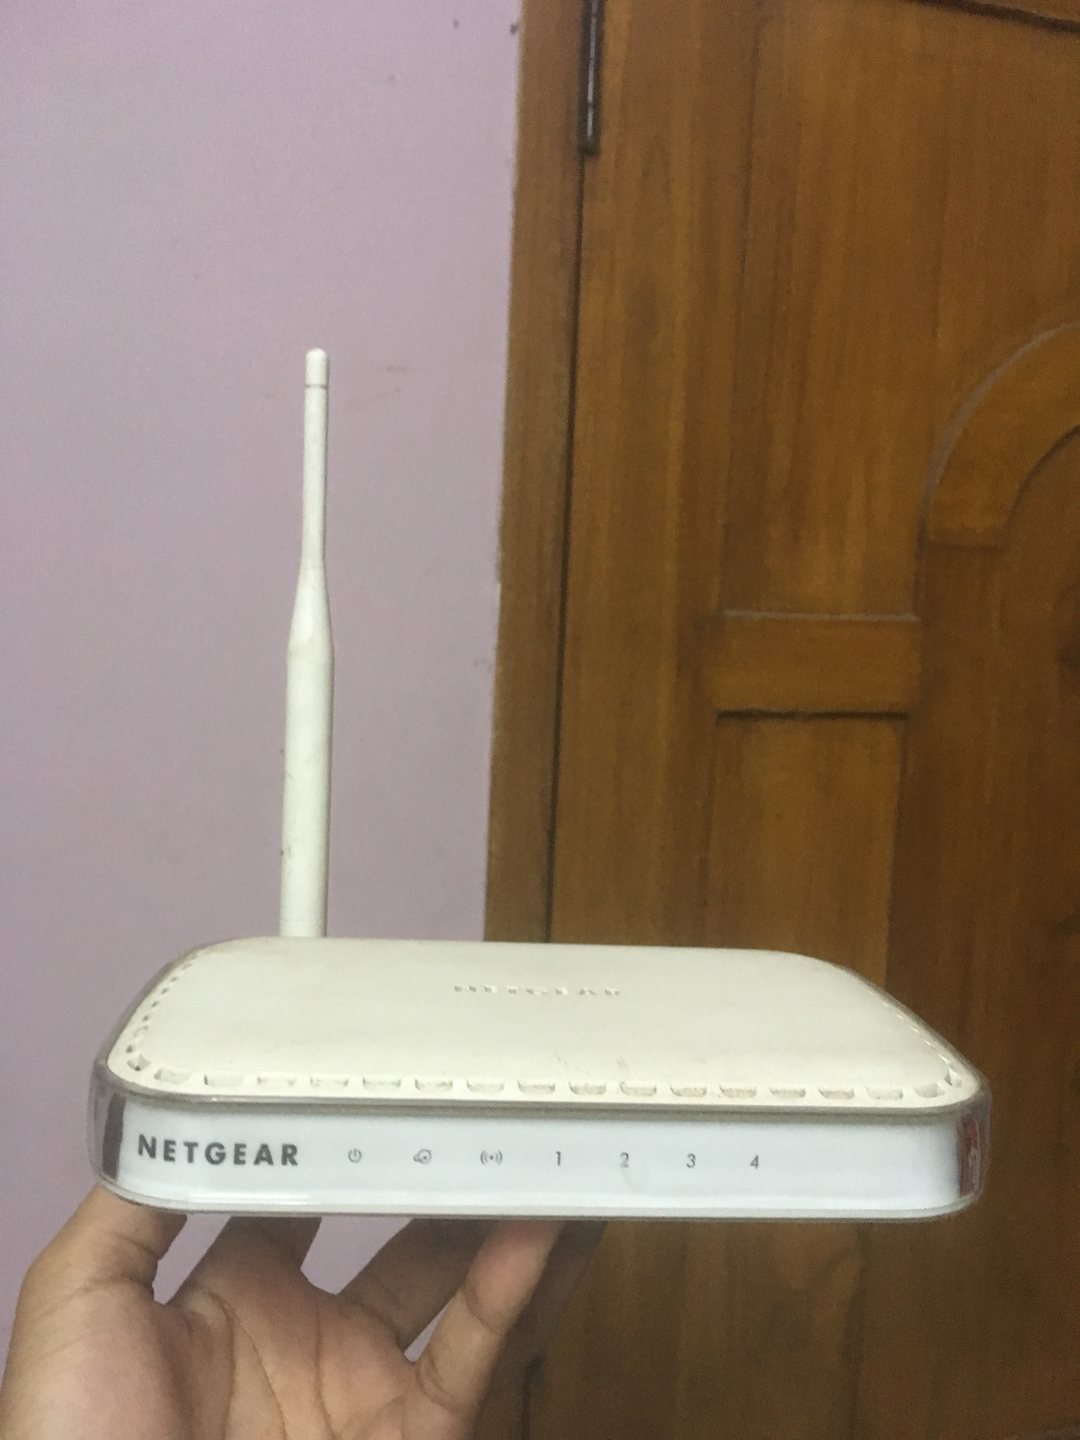NETGEAR: (133, 1126, 305, 1175)
modem: (88, 1064, 1005, 1222)
